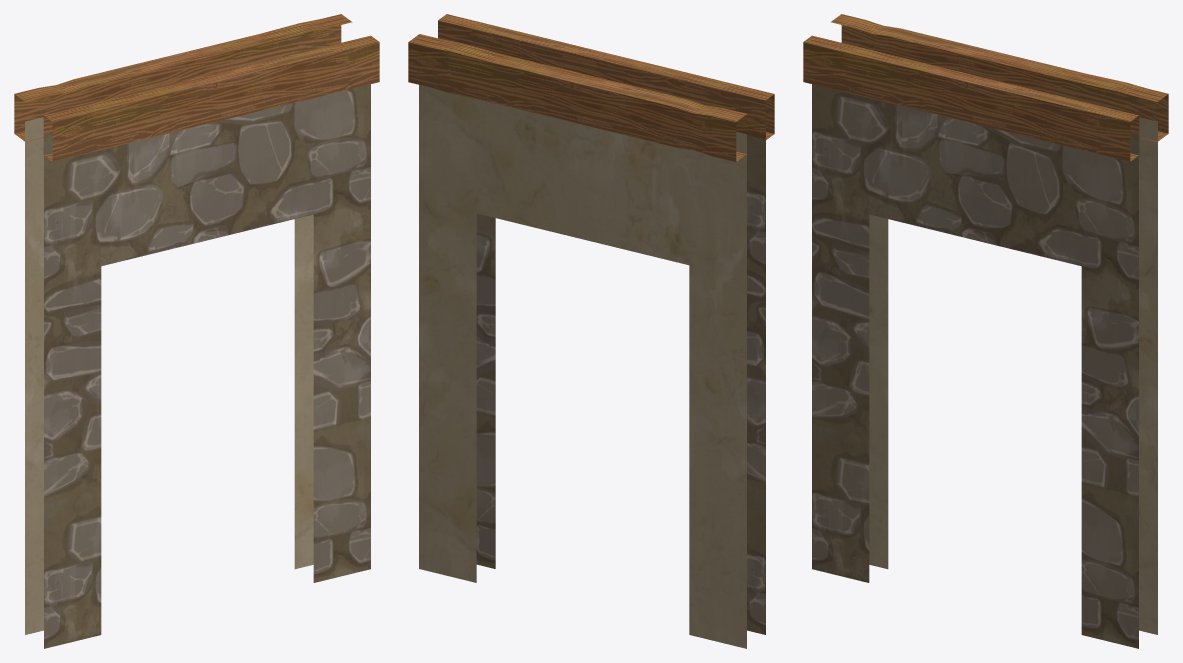
Rendered from Wall_UnevenBrick_Door_Flat.gltf.
The picture shows the model from 3 angles, left to right: view 1: azimuth 30°, elevation 25°; view 2: azimuth 150°, elevation 25°; view 3: azimuth 330°, elevation 25°; orthographic projection.
Parts seen in each view (by area): view 1: Wall_UnevenBrick_Door_Flat; view 2: Wall_UnevenBrick_Door_Flat; view 3: Wall_UnevenBrick_Door_Flat.
Part boxes in pixels (x1=…): Wall_UnevenBrick_Door_Flat: x1=14, y1=14, x2=379, y2=648; Wall_UnevenBrick_Door_Flat: x1=408, y1=14, x2=774, y2=648; Wall_UnevenBrick_Door_Flat: x1=803, y1=14, x2=1168, y2=648.
Bounding box in the file's own units: 2 × 3.12 × 0.4065.
3 materials, 3 textured.
